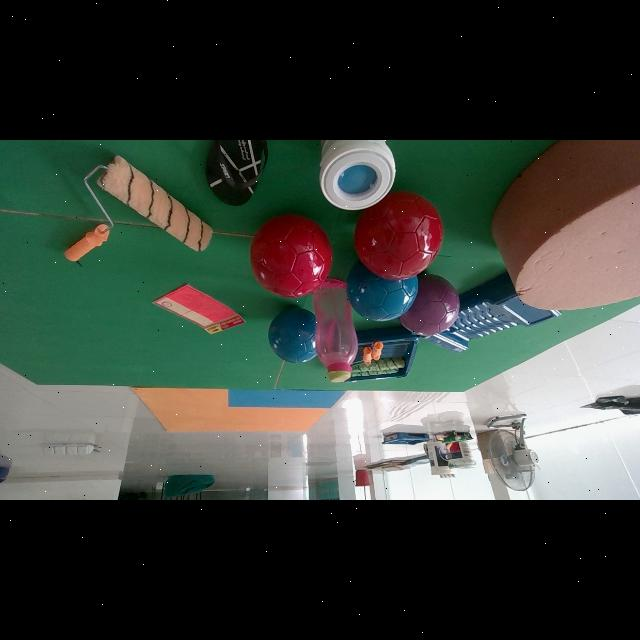B: (347, 261, 418, 322), (268, 308, 316, 362)
P: (400, 272, 460, 336)
R: (355, 192, 442, 279), (250, 215, 333, 297)
